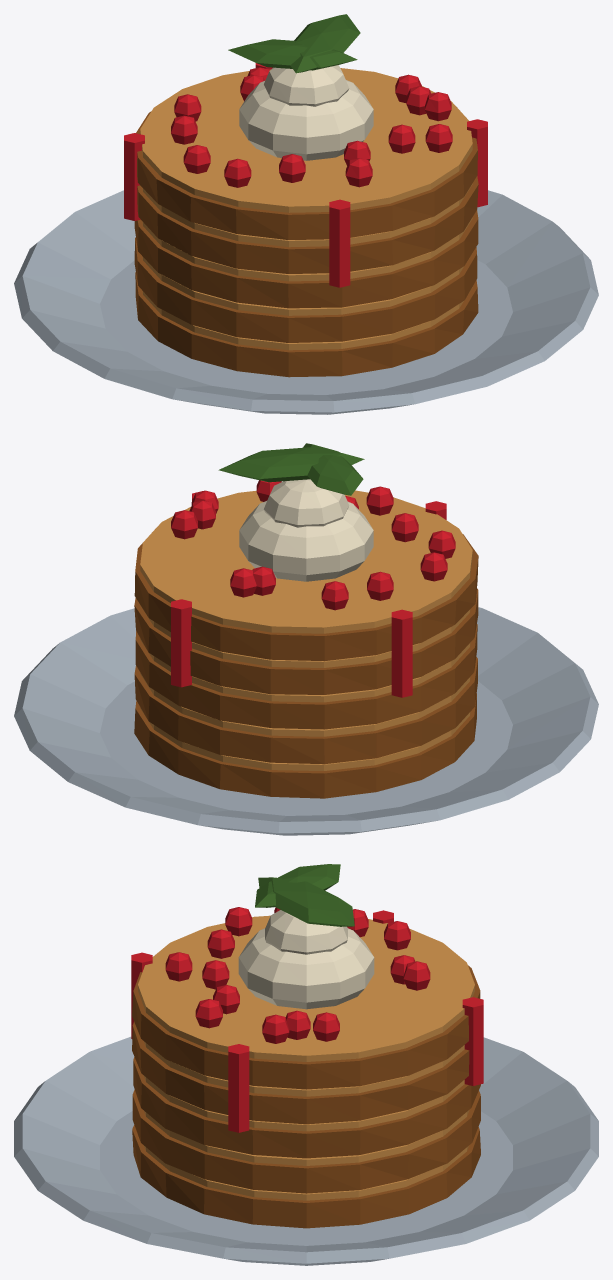
Rendered from VFP_Secret_YmirPancakeTower.obj.
3 renders of one model, top to bottom at view 1: azimuth 30°, elevation 25°; view 2: azimuth 150°, elevation 25°; view 3: azimuth 270°, elevation 25°, orthographic.
Visible parts, largest first — view 1: Plate, Pancakes, Pancakes_pancake, Cream, Berries, Sauce, Leaves; view 2: Plate, Pancakes, Pancakes_pancake, Cream, Berries, Leaves, Sauce; view 3: Plate, Pancakes, Pancakes_pancake, Cream, Berries, Leaves, Sauce.
Boxes of the visible parts, box(x1,y1,x2,y2) form: Plate: box(14, 190, 598, 414); Pancakes: box(134, 107, 478, 377); Pancakes_pancake: box(140, 68, 472, 350); Cream: box(239, 65, 373, 160); Berries: box(171, 67, 452, 187); Sauce: box(124, 63, 487, 287); Leaves: box(228, 14, 360, 73); Plate: box(14, 607, 598, 835); Pancakes: box(134, 534, 478, 798); Pancakes_pancake: box(140, 490, 472, 770); Cream: box(239, 479, 373, 581); Berries: box(171, 480, 455, 610); Leaves: box(218, 443, 364, 495); Sauce: box(171, 491, 446, 697); Plate: box(14, 1036, 598, 1265); Pancakes: box(132, 965, 480, 1228); Pancakes_pancake: box(138, 915, 474, 1200); Cream: box(238, 910, 374, 1009); Berries: box(165, 907, 430, 1043); Leaves: box(255, 864, 354, 926); Sauce: box(131, 910, 483, 1132).
Bounding box in the file's own units: 0.34 × 0.1817 × 0.3366.
